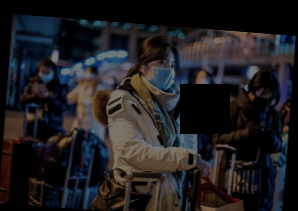with_mask: (147, 55, 176, 90), (250, 89, 275, 108), (194, 71, 212, 89), (36, 67, 54, 84)
